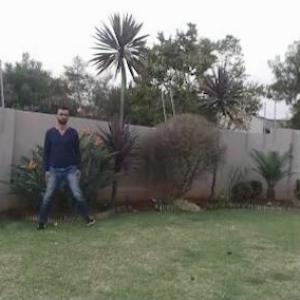follow: (44, 99, 82, 225)
